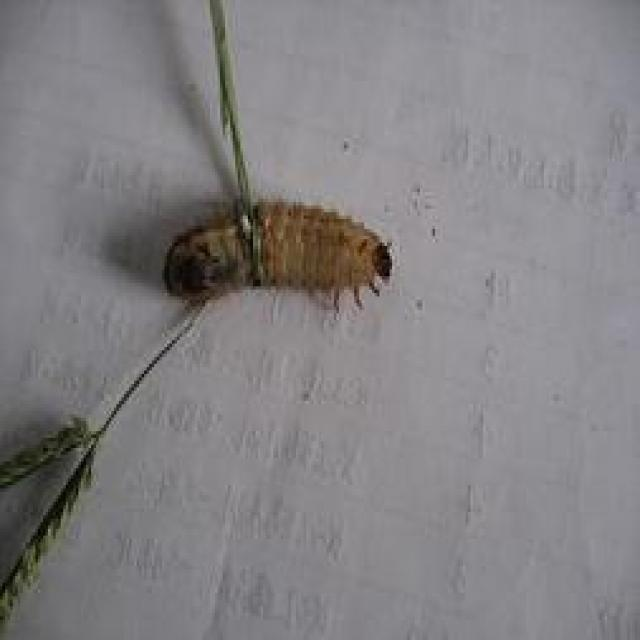Grub-Adult-: (150, 193, 404, 319)
